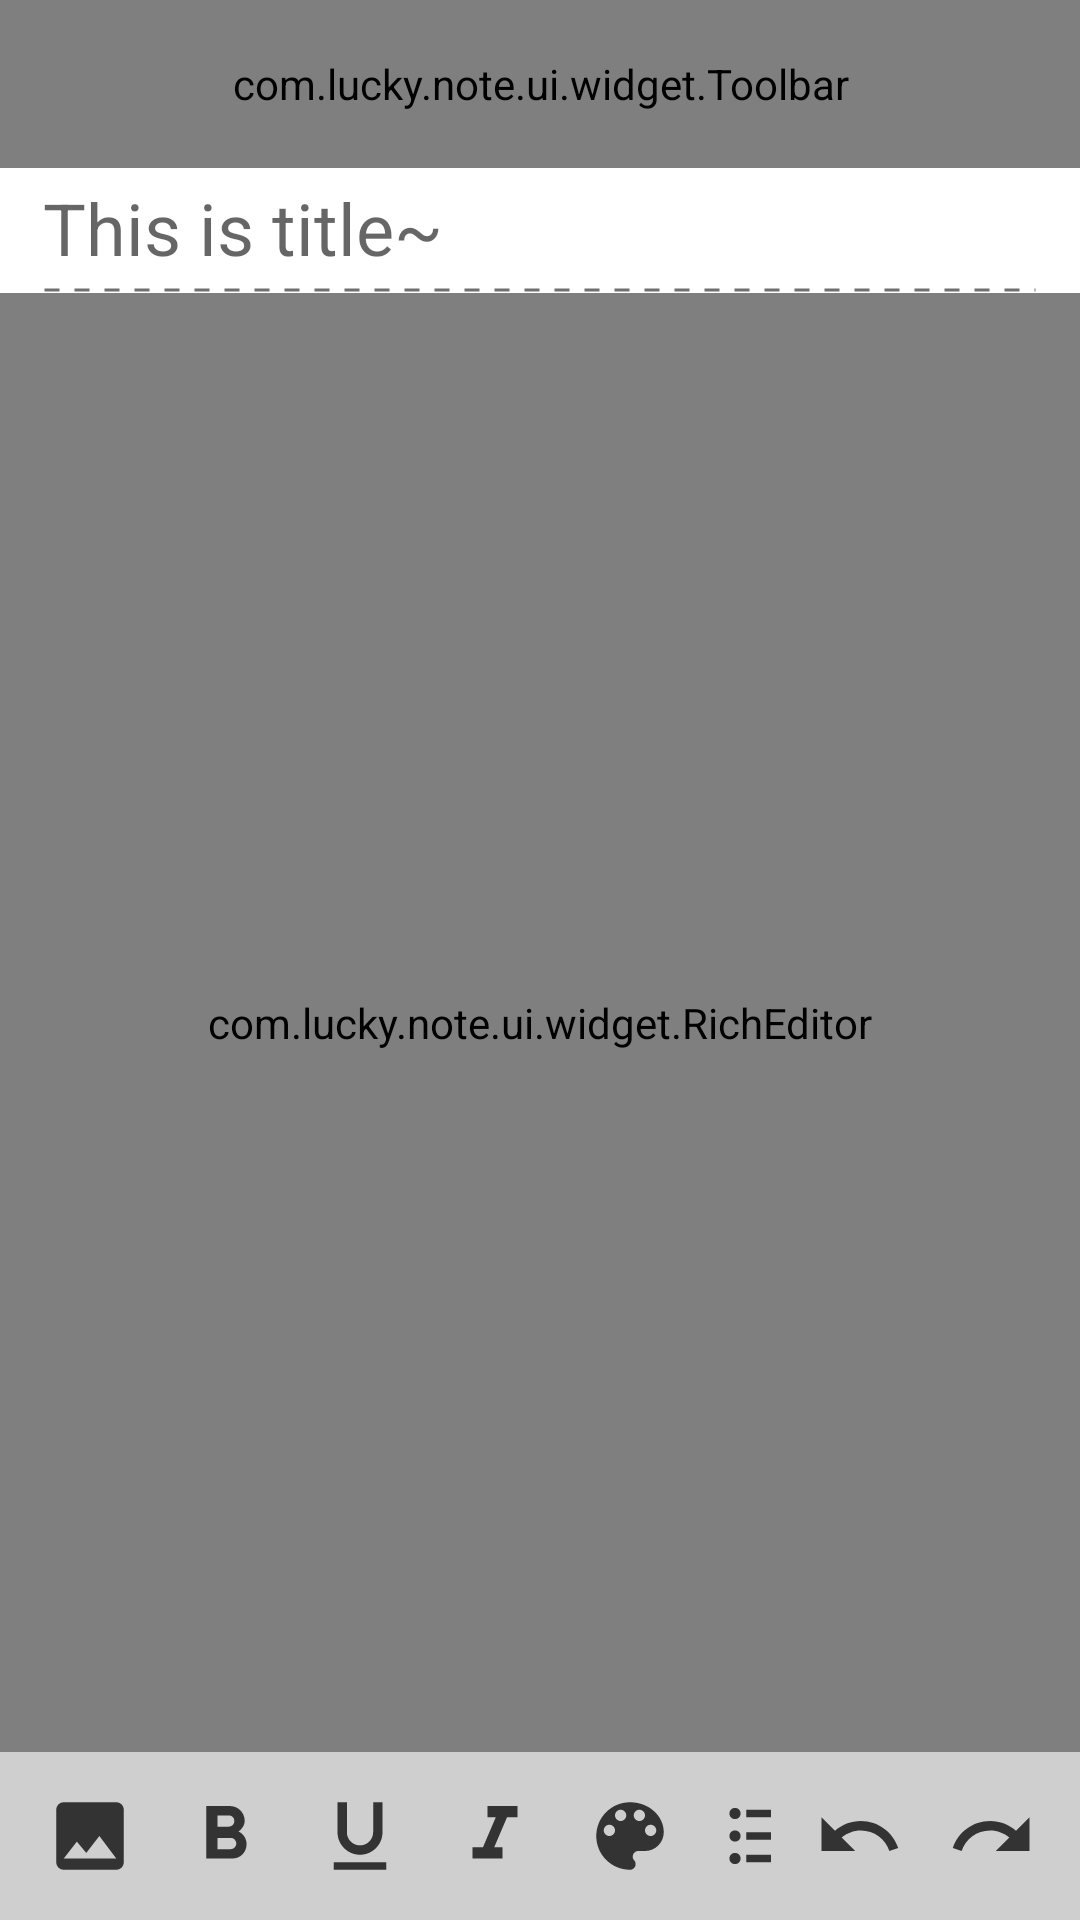

Screen size 1080px x 1920px. Icon name, then its box in pixels as (x1, y1, x2, y2):
edit redo: (953, 1817, 1030, 1851)
edit undo: (821, 1817, 898, 1851)
format: (596, 1802, 664, 1870), (206, 1806, 247, 1859)
format italic: (472, 1806, 518, 1859)
format underlined: (333, 1802, 387, 1870)
insert photo: (56, 1802, 124, 1870)
